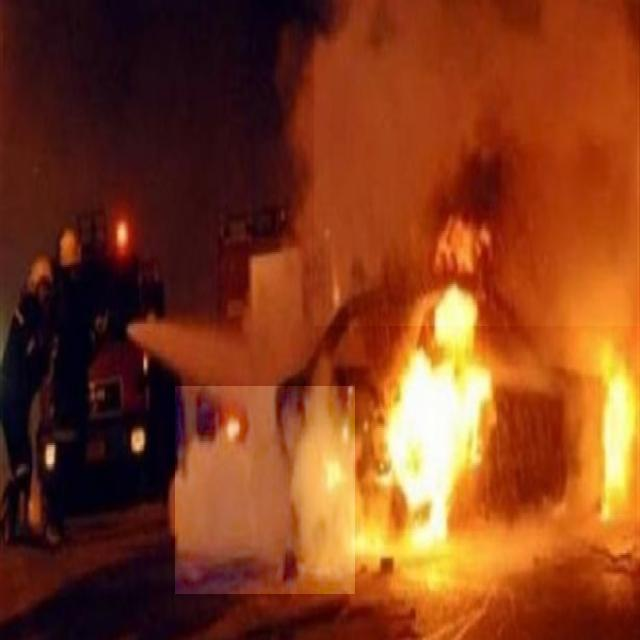Fire: (389, 282, 486, 532), (598, 367, 637, 514)
Smoke: (314, 0, 639, 326), (176, 386, 356, 594)
